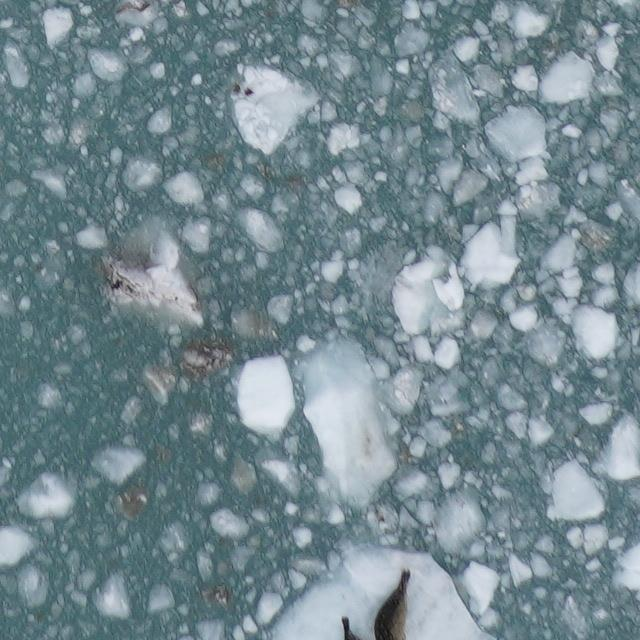seal: (372, 565, 414, 640)
